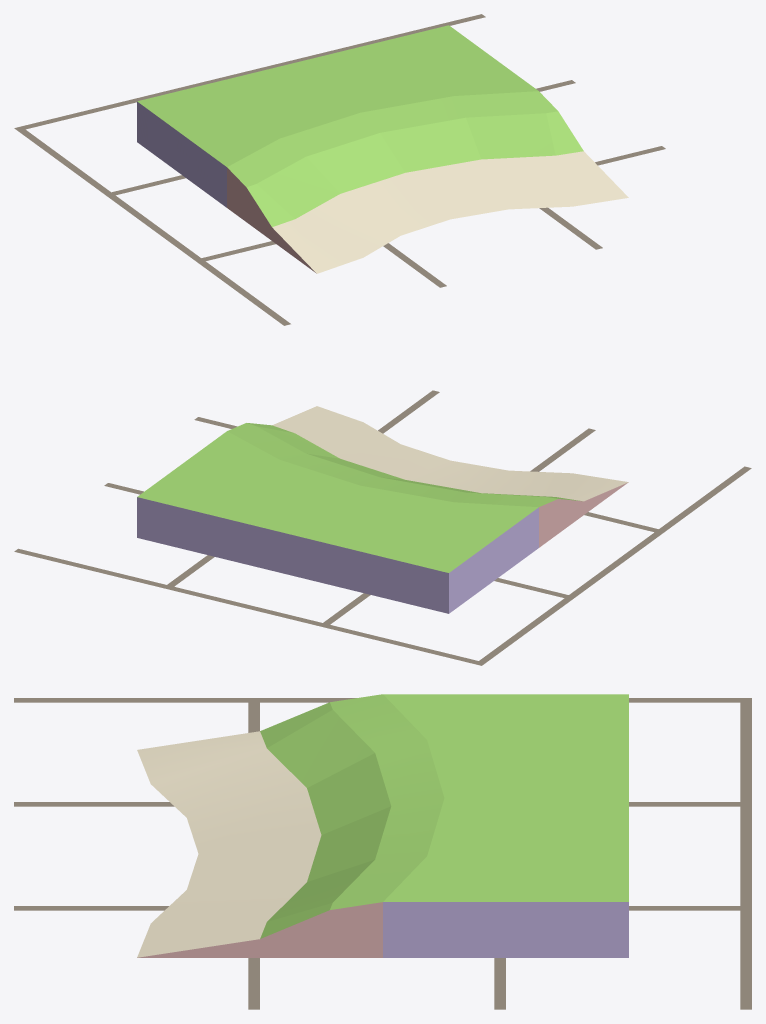
File: Path_Terrain_Deformed_Straight_Concave_2x2.glb
The picture shows the model from 3 angles, top to bottom: view 1: azimuth 30°, elevation 25°; view 2: azimuth 150°, elevation 25°; view 3: azimuth 270°, elevation 25°; orthographic projection. The views are drawn at different scales.
Visible parts, largest first — view 1: Path_Terrain_Deformed_Straight_Concave_2x2, Floor; view 2: Path_Terrain_Deformed_Straight_Concave_2x2, Floor; view 3: Path_Terrain_Deformed_Straight_Concave_2x2, Floor.
Part boxes in pixels (<box>): Path_Terrain_Deformed_Straight_Concave_2x2: <box>137,25,628,273</box>; Floor: <box>14,14,665,325</box>; Path_Terrain_Deformed_Straight_Concave_2x2: <box>137,406,628,613</box>; Floor: <box>14,390,751,665</box>; Path_Terrain_Deformed_Straight_Concave_2x2: <box>137,694,628,957</box>; Floor: <box>14,698,751,1009</box>.
Size of the model in its own units: 300 by 25 by 300.
6 materials, 1 textured.
